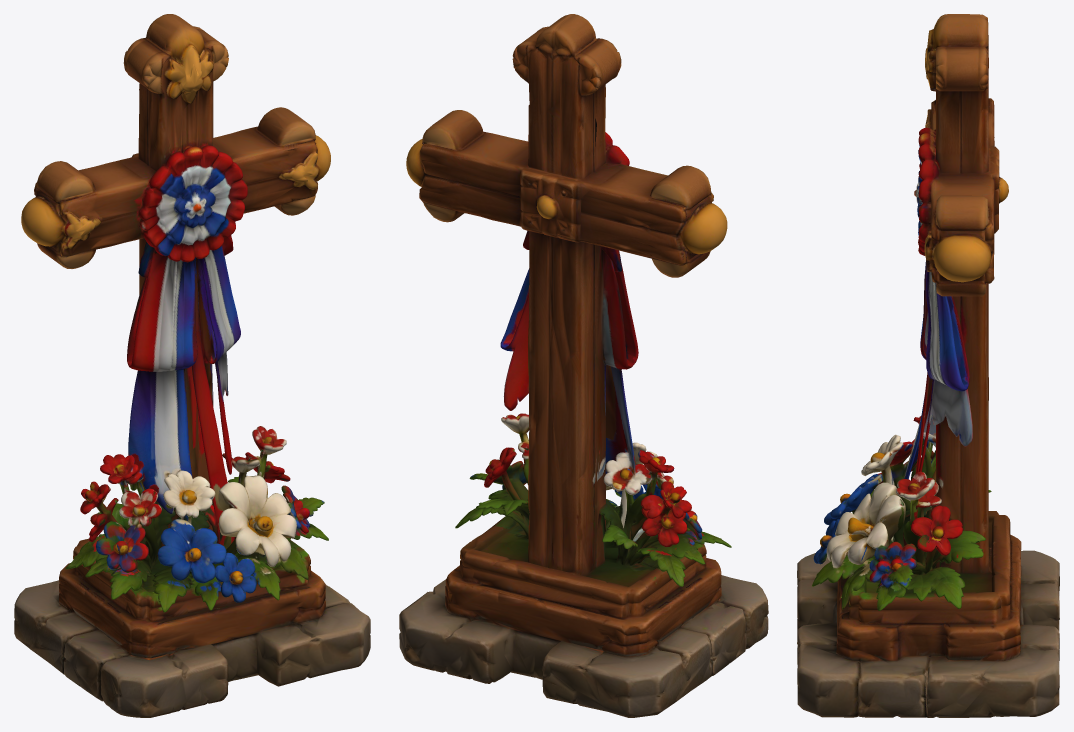
Rendered from cruz_decorativa.glb.
3 renders of one model, left to right at view 1: azimuth 30°, elevation 25°; view 2: azimuth 150°, elevation 25°; view 3: azimuth 270°, elevation 25°, orthographic. The views are drawn at different scales.
Parts seen in each view (by area): view 1: cruz_decorativa; view 2: cruz_decorativa; view 3: cruz_decorativa.
Part boxes in pixels (x1=…): cruz_decorativa: x1=14, y1=14, x2=370, y2=717; cruz_decorativa: x1=399, y1=14, x2=768, y2=717; cruz_decorativa: x1=797, y1=14, x2=1059, y2=717.
Size of what is drawn, in the model's own units: 0.613 by 1.2 by 0.4454.
1 material, 1 textured.
